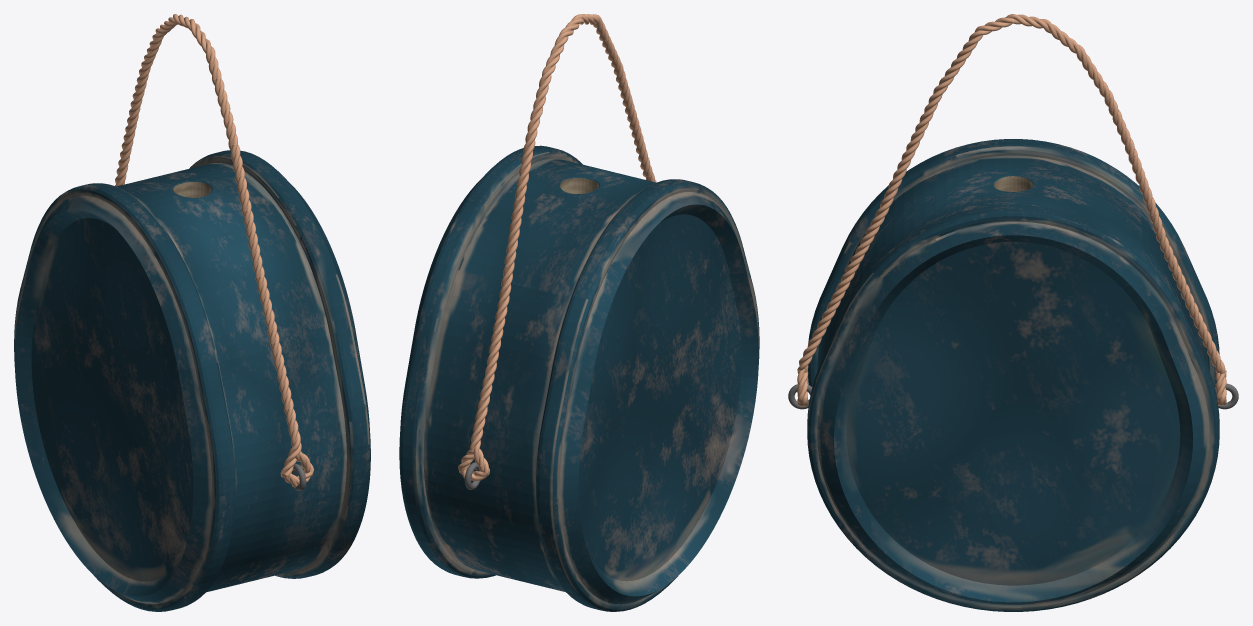
File: Laukku.fbx
The picture shows the model from 3 angles, left to right: view 1: azimuth 30°, elevation 25°; view 2: azimuth 150°, elevation 25°; view 3: azimuth 270°, elevation 25°; orthographic projection.
Parts seen in each view (by area): view 1: Cylinder; view 2: Cylinder; view 3: Cylinder.
Part boxes in pixels (x1,y1,x2,y2): Cylinder: (14, 14, 370, 611); Cylinder: (399, 14, 759, 611); Cylinder: (788, 14, 1238, 611).
Size of the model in its own units: 94.98 by 287 by 208.
4 materials, 2 textured.
